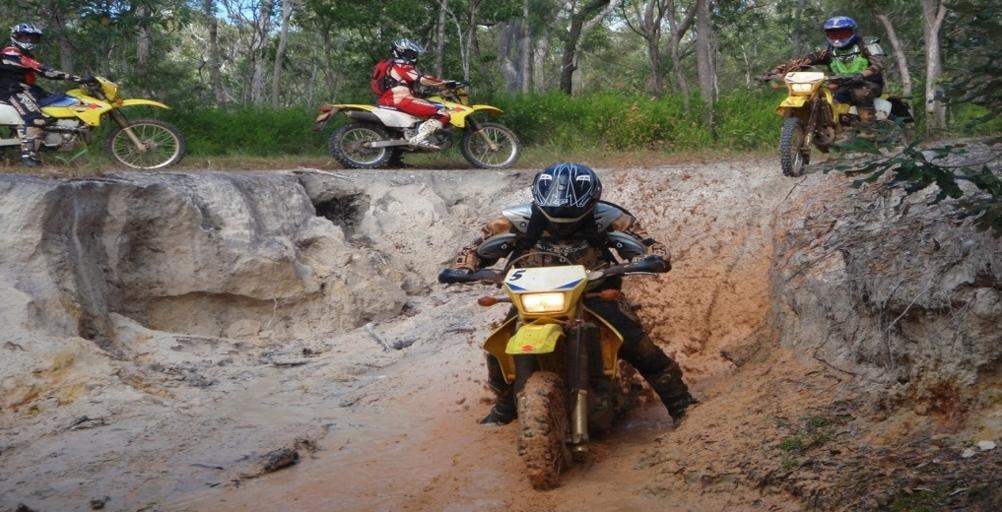non-vehicle: (436, 230, 673, 490), (315, 78, 524, 171), (0, 72, 186, 173), (751, 65, 913, 177)
